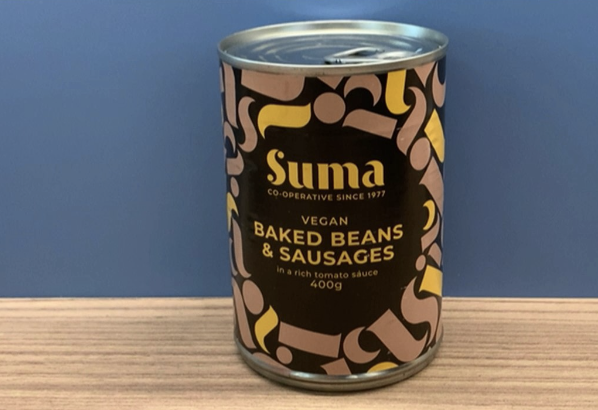Baked beans_400-499g: (237, 95, 431, 353)
